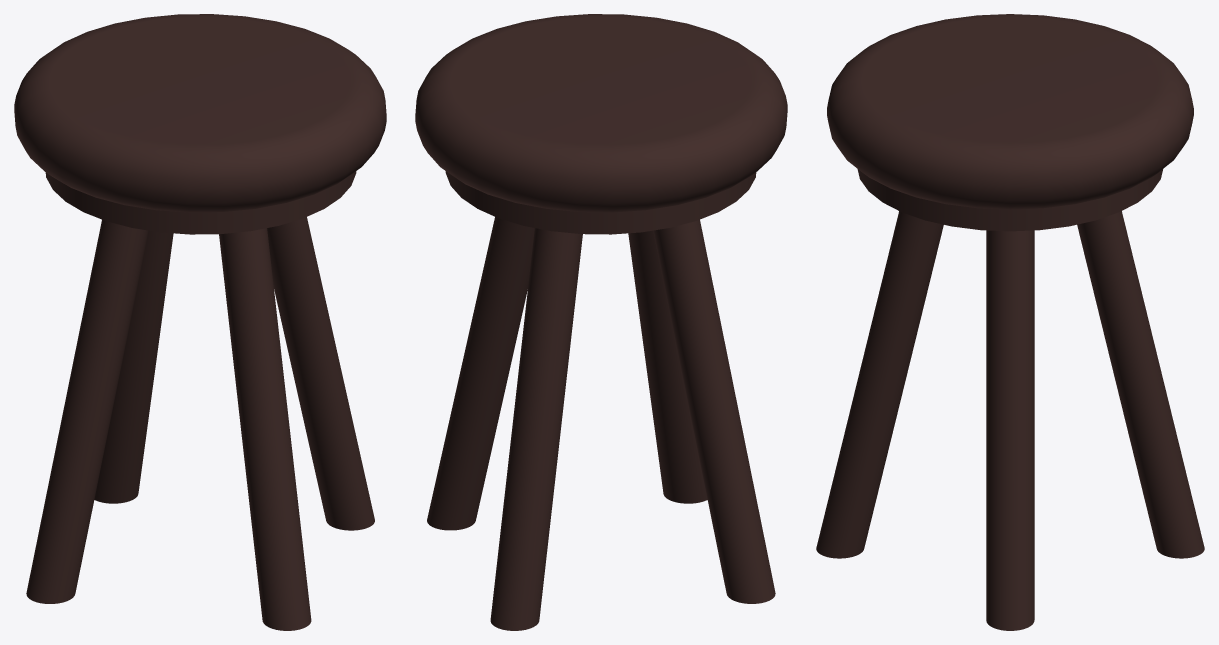
The model's file is Tabouret3_7.fbx.
3 views of the same model, side by side, from view 1: azimuth 30°, elevation 25°; view 2: azimuth 150°, elevation 25°; view 3: azimuth 270°, elevation 25° (orthographic).
Visible parts, largest first — view 1: polySurface972, pCylinder1640, pCylinder1641; view 2: polySurface972, pCylinder1640, pCylinder1641; view 3: pCylinder1640, polySurface972, pCylinder1641.
Boxes of the visible parts, box(x1,y1,x2,y2) form: polySurface972: box(26, 217, 374, 630); pCylinder1640: box(14, 14, 386, 212); pCylinder1641: box(45, 171, 356, 234); polySurface972: box(427, 217, 775, 630); pCylinder1640: box(415, 14, 787, 212); pCylinder1641: box(445, 171, 756, 234); pCylinder1640: box(827, 14, 1193, 209); polySurface972: box(816, 211, 1204, 630); pCylinder1641: box(857, 169, 1162, 231).
Bounding box in the file's own units: 39.54 × 52.62 × 39.53.
